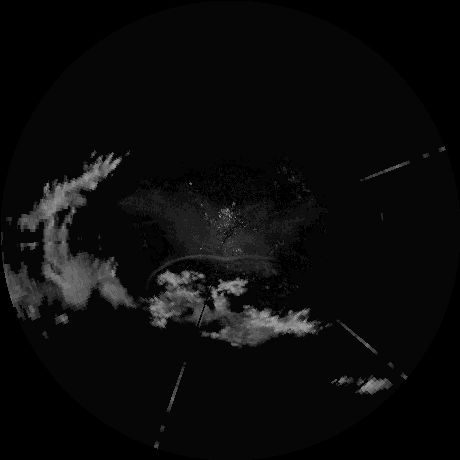frontgust: (157, 254, 265, 274)
